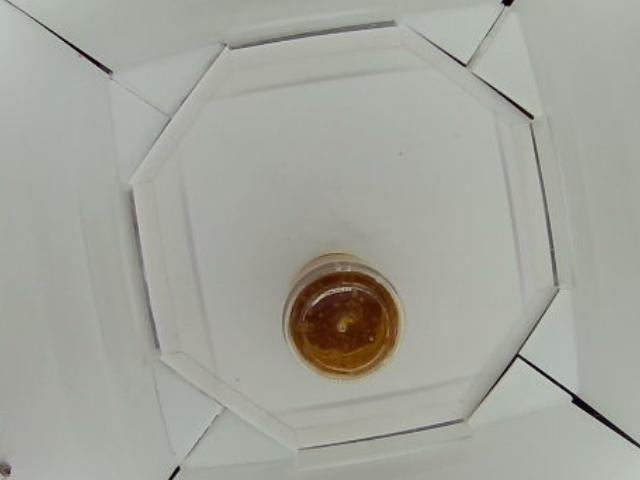Bottle: (281, 254, 406, 381)
